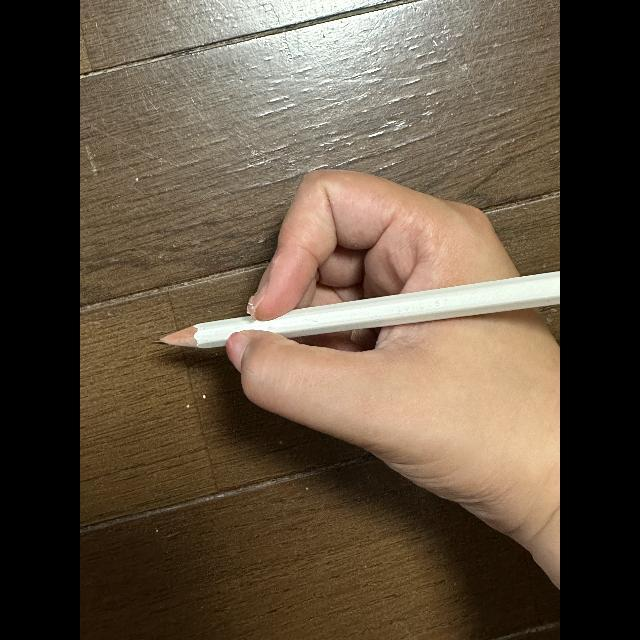pencil: (159, 271, 559, 349)
